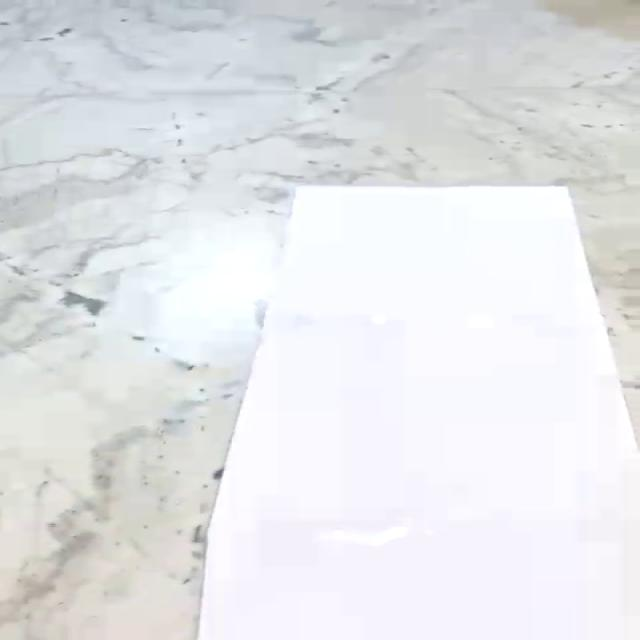road: (195, 185, 640, 640)
